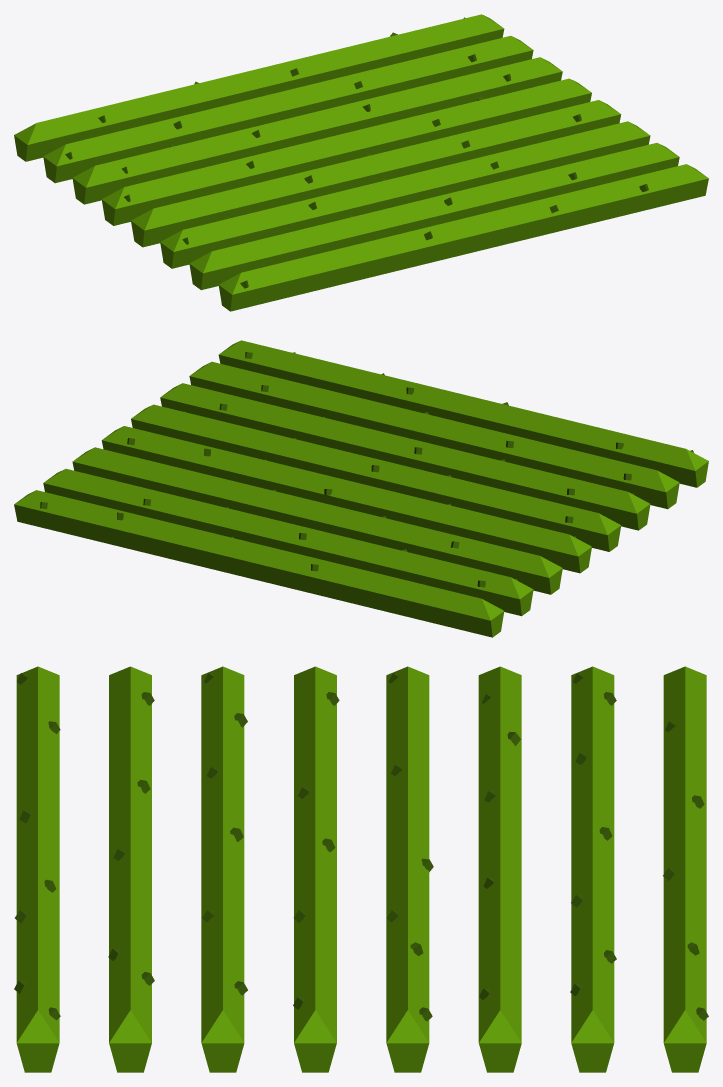
Rendered from co_Vegetables08.fbx.
3 renders of one model, top to bottom at view 1: azimuth 30°, elevation 25°; view 2: azimuth 150°, elevation 25°; view 3: azimuth 270°, elevation 25°, orthographic. The views are drawn at different scales.
Parts seen in each view (by area): view 1: Vegetables08; view 2: Vegetables08; view 3: Vegetables08.
Boxes of the visible parts, left/top/right/bottom form: Vegetables08: left=14, top=14, right=708, bottom=311; Vegetables08: left=14, top=340, right=708, bottom=637; Vegetables08: left=14, top=666, right=708, bottom=1072.
Size of the model in its own units: 1958 by 127 by 1563.
